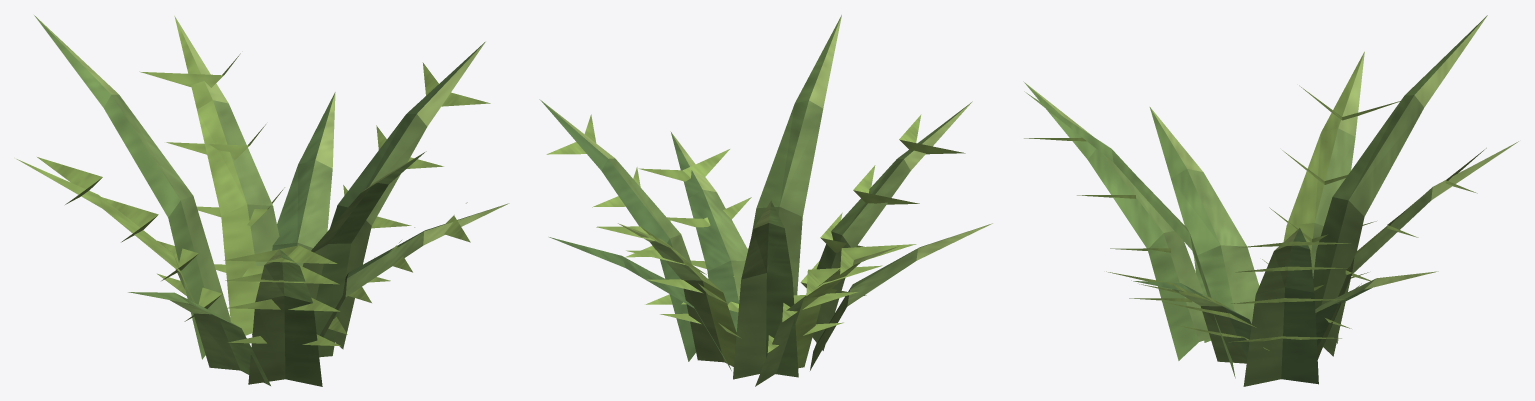
Rendered from fern_01.fbx.
3 renders of one model, left to right at view 1: azimuth 30°, elevation 25°; view 2: azimuth 150°, elevation 25°; view 3: azimuth 270°, elevation 25°, orthographic. The views are drawn at different scales.
Visible parts, largest first — view 1: fern_01; view 2: fern_01; view 3: fern_01.
Boxes of the visible parts, x1,y1,x2,y2 form: fern_01: (16,15,509,386); fern_01: (539,15,992,386); fern_01: (1023,15,1518,386).
Size of the model in its own units: 100 by 63 by 100.
Materials: 1 (1 with a texture image).
